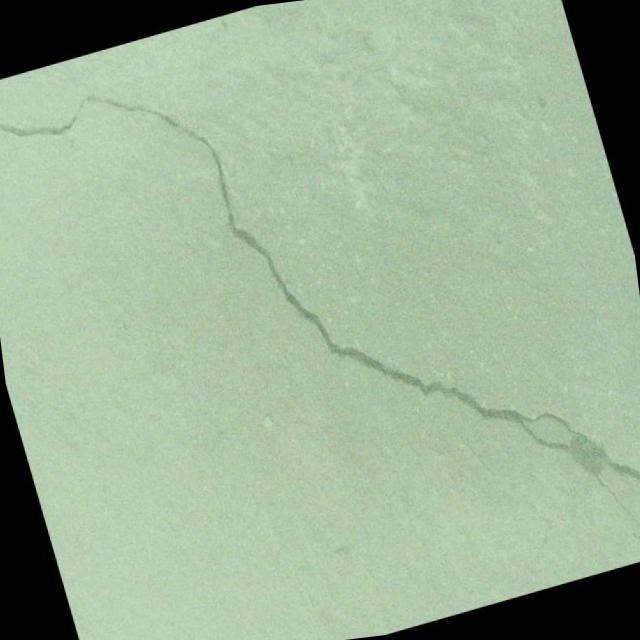crack: (0, 0, 640, 640), (619, 505, 640, 564)
